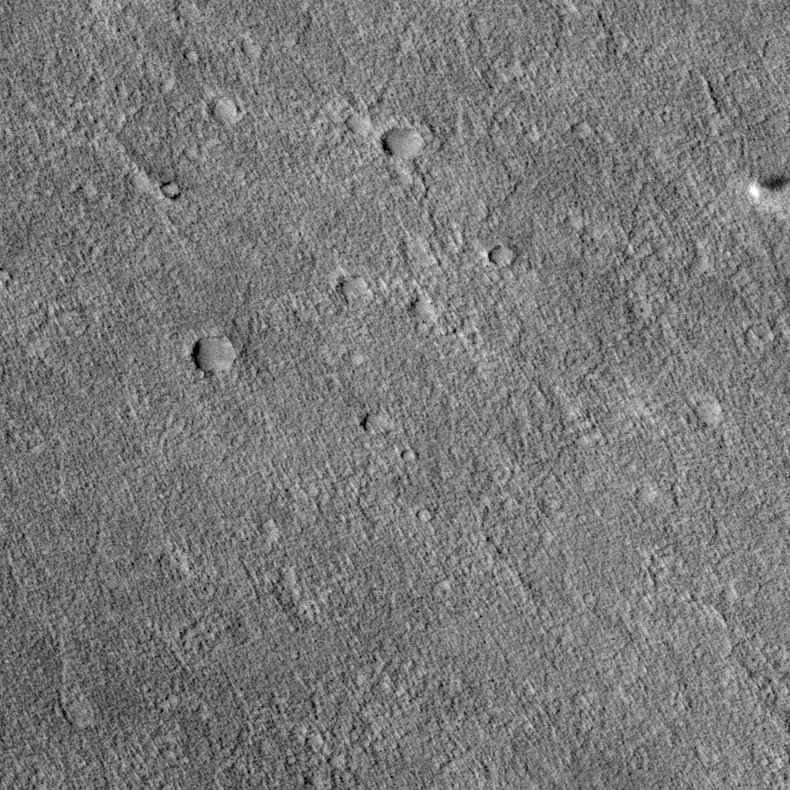dust_devil: (747, 173, 790, 206)
